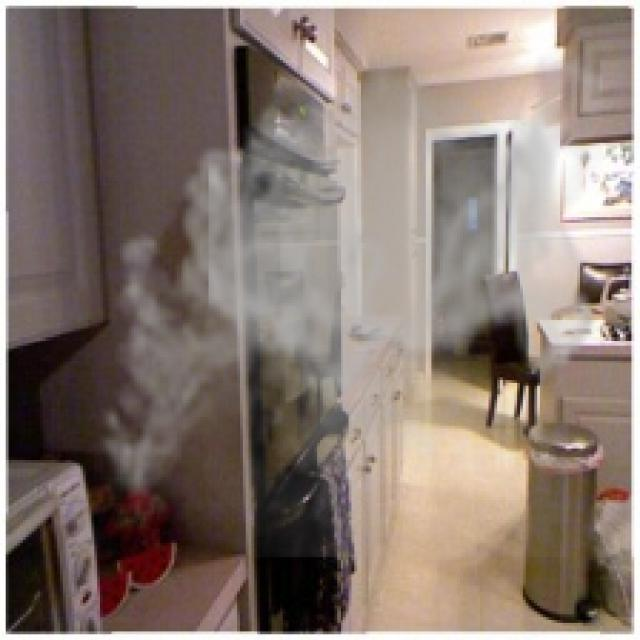smoke: (86, 32, 603, 557)
